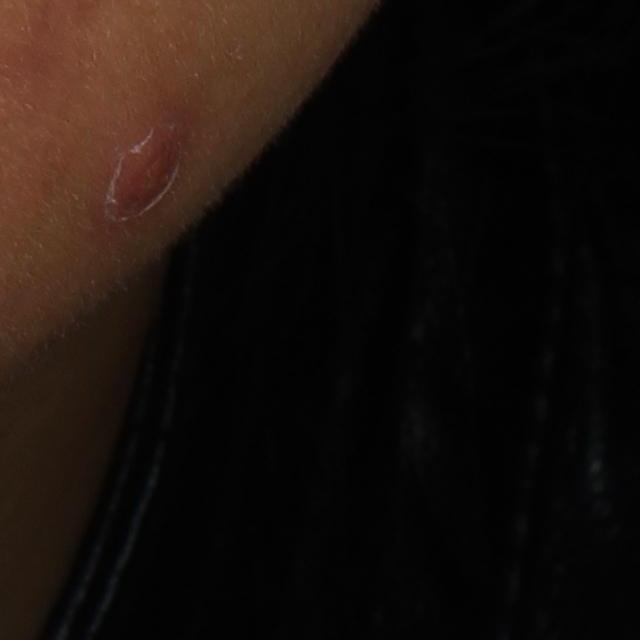papule: (98, 116, 186, 229)
